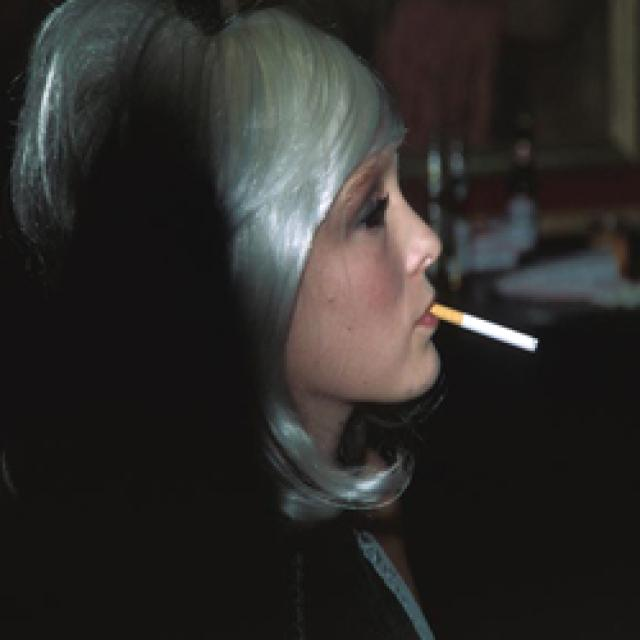Smooking: (431, 298, 560, 368)
